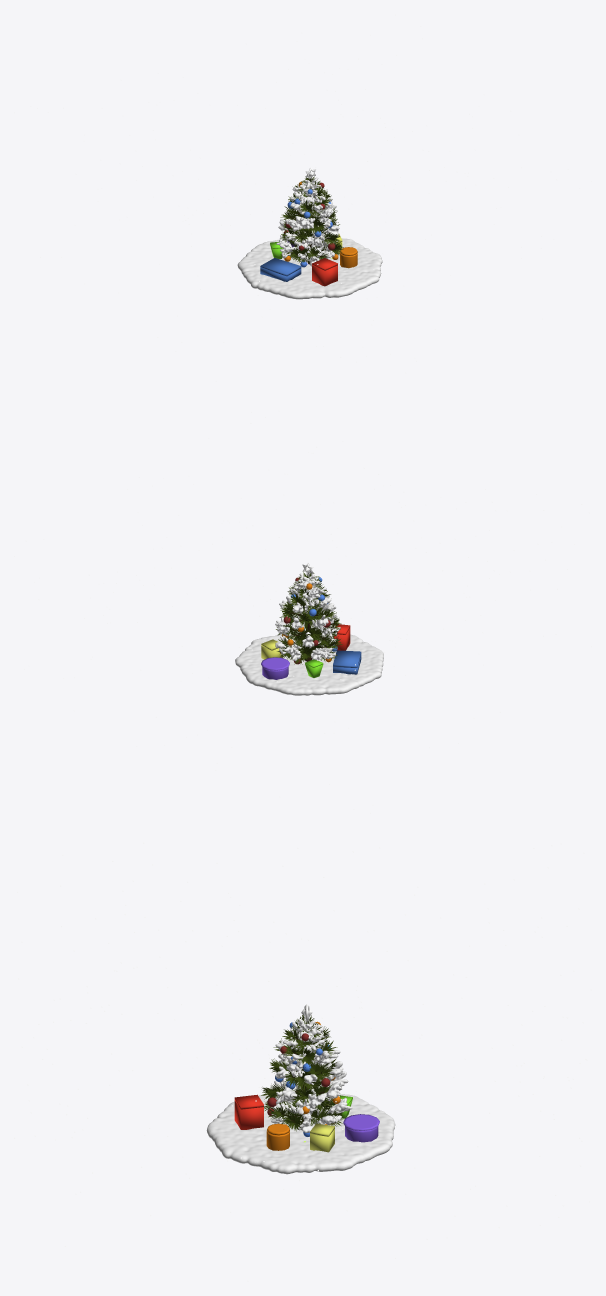
Rendered from asset.glb.
3 renders of one model, top to bottom at view 1: azimuth 30°, elevation 25°; view 2: azimuth 150°, elevation 25°; view 3: azimuth 270°, elevation 25°, orthographic. The views are drawn at different scales.
Parts seen in each view (by area): view 1: SnowBall.002, SnowBall.001, leaves; view 2: SnowBall.002, SnowBall.001, leaves; view 3: SnowBall.002, SnowBall.001, leaves, Cube, Cylinder.001.
Part boxes in pixels (x1,y1,x2,y2): SnowBall.002: (237, 238, 382, 299); SnowBall.001: (276, 177, 338, 266); leaves: (279, 176, 343, 263); SnowBall.002: (235, 634, 383, 695); SnowBall.001: (275, 573, 340, 661); leaves: (276, 572, 342, 664); SnowBall.002: (206, 1094, 395, 1174); SnowBall.001: (270, 1017, 352, 1132); leaves: (261, 1015, 343, 1131); Cube: (234, 1100, 263, 1129); Cylinder.001: (266, 1123, 289, 1150).
Size of the model in its own units: 38.68 by 17.72 by 38.77.
